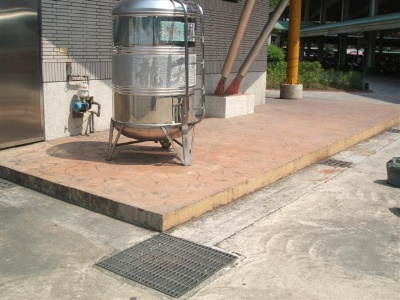water_tower: (104, 1, 205, 166)
